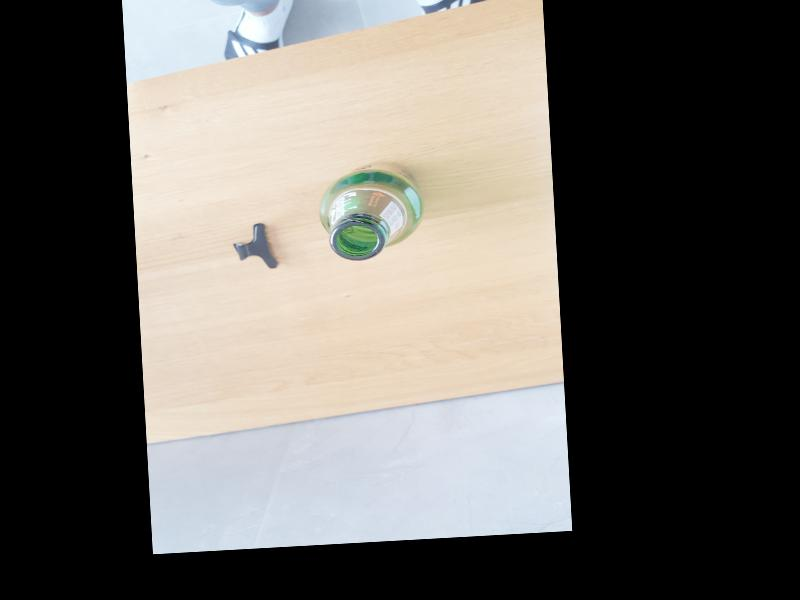Beer: (313, 158, 425, 262)
